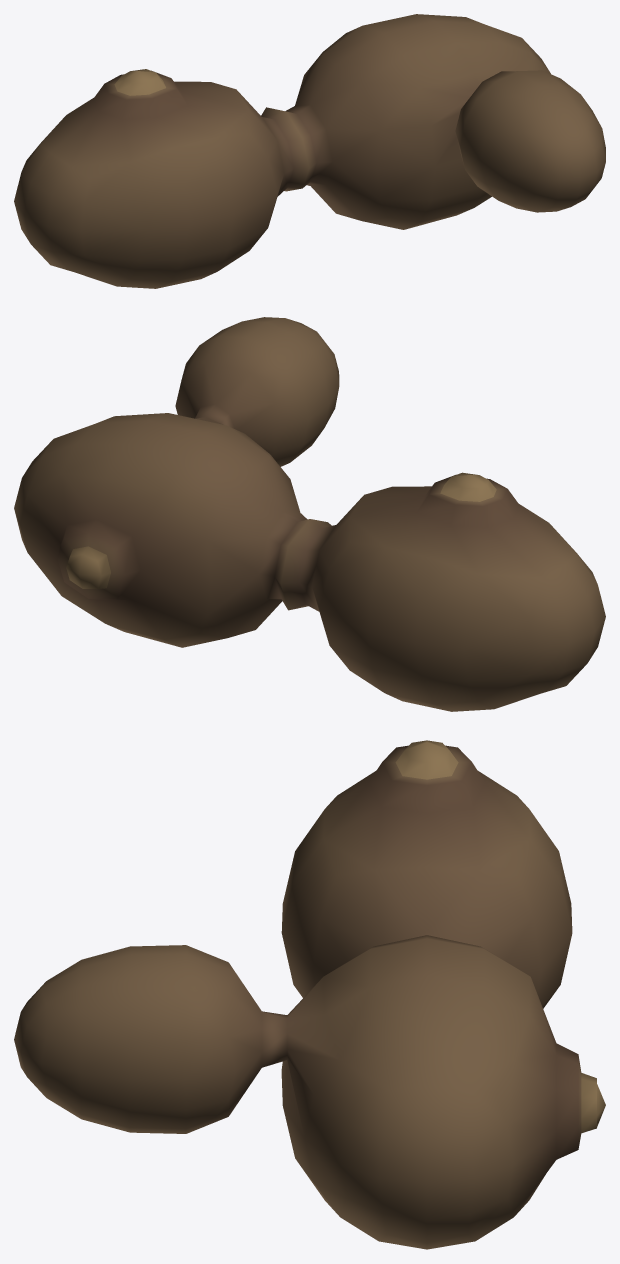
File: microscopic-cells-yeast-cell_v5.glb
The picture shows the model from 3 angles, top to bottom: view 1: azimuth 30°, elevation 25°; view 2: azimuth 150°, elevation 25°; view 3: azimuth 270°, elevation 25°; orthographic projection. The views are drawn at different scales.
Parts seen in each view (by area): view 1: Yeast Cell_v5; view 2: Yeast Cell_v5; view 3: Yeast Cell_v5.
Boxes of the visible parts, left/top/right/bottom form: Yeast Cell_v5: left=14, top=14, right=605, bottom=288; Yeast Cell_v5: left=14, top=317, right=605, bottom=711; Yeast Cell_v5: left=14, top=740, right=605, bottom=1249.
Bounding box in the file's own units: 0.5 × 0.1926 × 0.3514.
